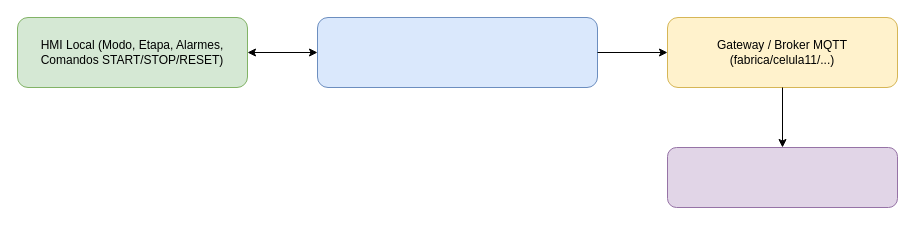
Image size: 915x225. Some labels were removed from this diagram. The shapes that lost their labels are listed below. From the top down, each one's centre as x and y in pixels, then its label:
pixel 457 52: CLP (SAFE, RUN, STEP_T/A/R, FAULT, I0.0-I0.4, Q0.0-Q0.2)
pixel 782 177: Historico / Supervisao / CMMS
